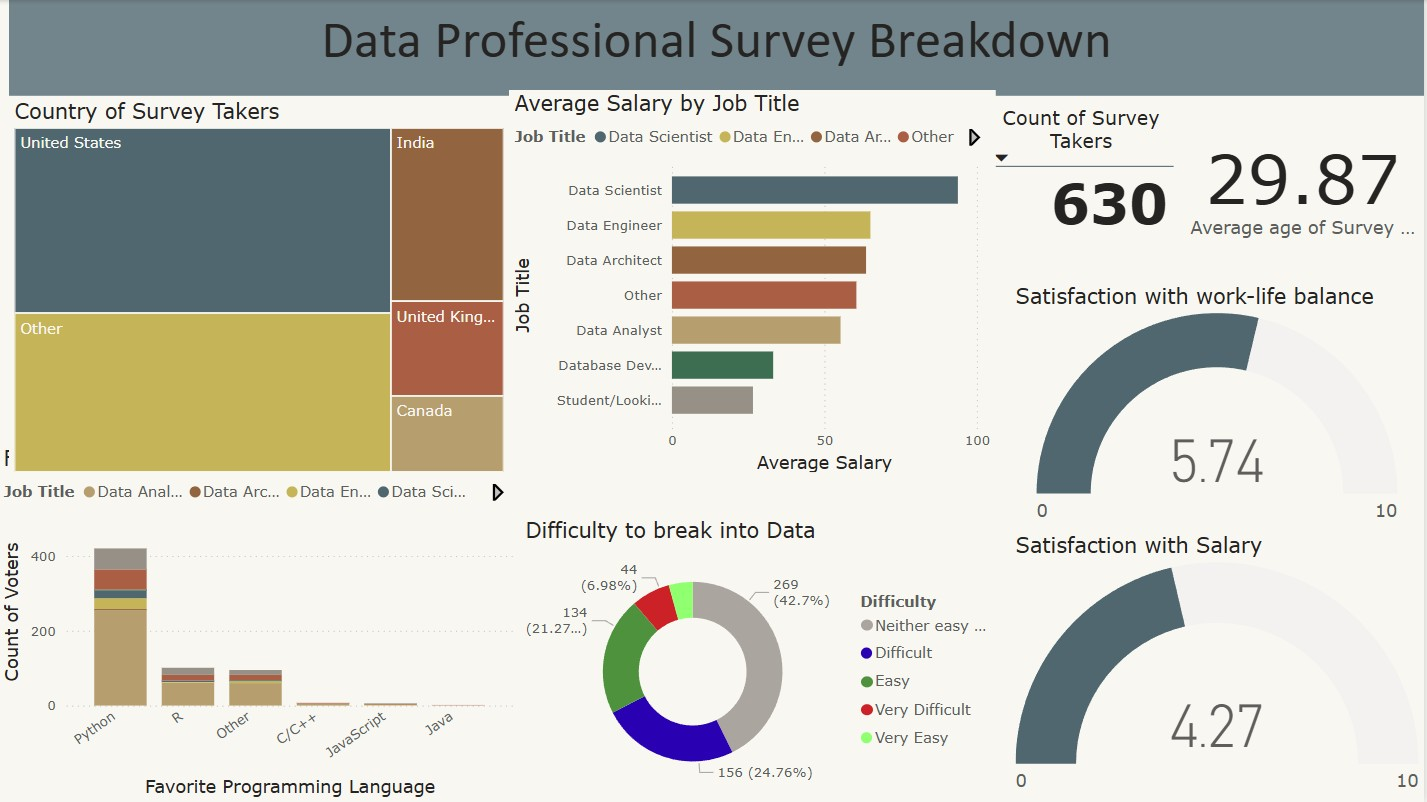

The page's visual inventory and layout, read from the dashboard file:
{"tool":"powerbi","page":{"name":"Page 1","canvas":[1280,720],"ordinal":0},"visuals":[{"type":"textbox","box":[9.6,0,1270.7,86.4],"z":0},{"type":"textbox","box":[10,290,280,280],"z":1000},{"type":"tableEx","fields":{"Values":["Data Professional Survey.Unique ID"]},"box":[883.7,89.2,186.6,153.7],"z":2000},{"type":"textbox","box":[1079.9,86.4,190.7,155.1],"z":3000},{"type":"card","fields":{"Values":["Avg(Data Professional Survey.Q10 - Current Age)"]},"box":[1060.7,89.2,219.6,156.4],"z":4000},{"type":"barChart","title":"Average Salary by Job Title","fields":{"Category":["Data Professional Survey.Q1 - Which Title Best Fits your Current Role?.1"],"Y":["Avg(Data Professional Survey.Average Salary)"],"Series":["Data Professional Survey.Q1 - Which Title Best Fits your Current Role?.1"]},"box":[458.9,81,436.8,348.5],"z":5000},{"type":"columnChart","title":"Favorite Programming Language","fields":{"Category":["Data Professional Survey.Q5 - Favorite Programming Language.1"],"Y":["CountNonNull(Data Professional Survey.Unique ID)"],"Series":["Data Professional Survey.Q1 - Which Title Best Fits your Current Role?.1"]},"box":[0,399.3,467.9,321.1],"z":6000},{"type":"treemap","title":"Country of Survey Takers","fields":{"Group":["Data Professional Survey.Q11 - Which Country do you live in?.1"],"Values":["CountNonNull(Data Professional Survey.Q11 - Which Country do you live in?.1)"]},"box":[9.8,88.3,449.1,341.1],"z":7000},{"type":"gauge","title":"Satisfaction with work-life balance","fields":{"Y":["Avg(Data Professional Survey.Q6 - How Happy are you in your Current Position with the following? (Work/Life Balance))"],"MinValue":["Min(Data Professional Survey.Q6 - How Happy are you in your Current Position with the following? (Work/Life Balance))"],"MaxValue":["Max(Data Professional Survey.Q6 - How Happy are you in your Current Position with the following? (Work/Life Balance))1"]},"box":[908.7,254,371.6,223.5],"z":8000},{"type":"gauge","title":"Satisfaction with Salary","fields":{"MinValue":["Min(Data Professional Survey.Q6 - How Happy are you in your Current Position with the following? (Salary))"],"MaxValue":["Max(Data Professional Survey.Q6 - How Happy are you in your Current Position with the following? (Salary))"],"Y":["Avg(Data Professional Survey.Q6 - How Happy are you in your Current Position with the following? (Salary))1"]},"box":[908.4,477.5,371.9,242.9],"z":9000},{"type":"donutChart","title":"Difficulty to break into Data","fields":{"Category":["Data Professional Survey.Q7 - How difficult was it for you to break into Data?"],"Y":["CountNonNull(Data Professional Survey.Q7 - How difficult was it for you to break into Data?)"]},"box":[468.7,463.8,440.5,256.4],"z":10000}]}

Visuals, with their boxes in screenshot pixels (x1, y1, x2, y2), scaled from the page's 1280x720 canvas onto the 1427x802 screenshot:
textbox: BBox(11, 0, 1426, 96)
textbox: BBox(11, 323, 323, 635)
tableEx - Data Professional Survey.Unique ID: BBox(985, 99, 1193, 271)
textbox: BBox(1204, 96, 1417, 269)
card - Avg(Data Professional Survey.Q10 - Current Age): BBox(1183, 99, 1426, 274)
"Average Salary by Job Title" barChart: BBox(512, 90, 999, 478)
"Favorite Programming Language" columnChart: BBox(0, 445, 522, 801)
"Country of Survey Takers" treemap: BBox(11, 98, 512, 478)
"Satisfaction with work-life balance" gauge: BBox(1013, 283, 1426, 532)
"Satisfaction with Salary" gauge: BBox(1013, 532, 1426, 801)
"Difficulty to break into Data" donutChart: BBox(523, 517, 1014, 801)
